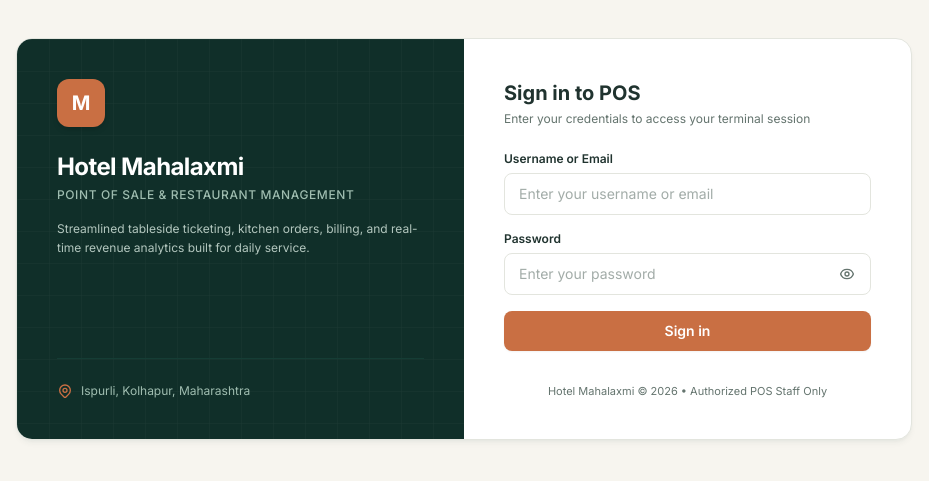
Test: LoginPage › shows validation errors when submitting empty form
Click the button "Sign in": point(688, 331) [504,311,871,351]
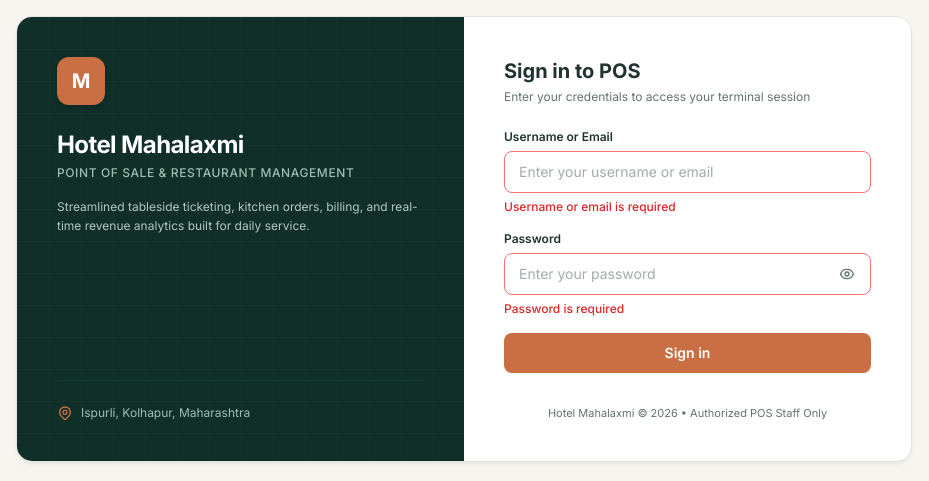
Now the text "Username or email is required" is shown, box [504,199,676,214]
Now the text "Password is required" is shown, box [504,301,624,316]
